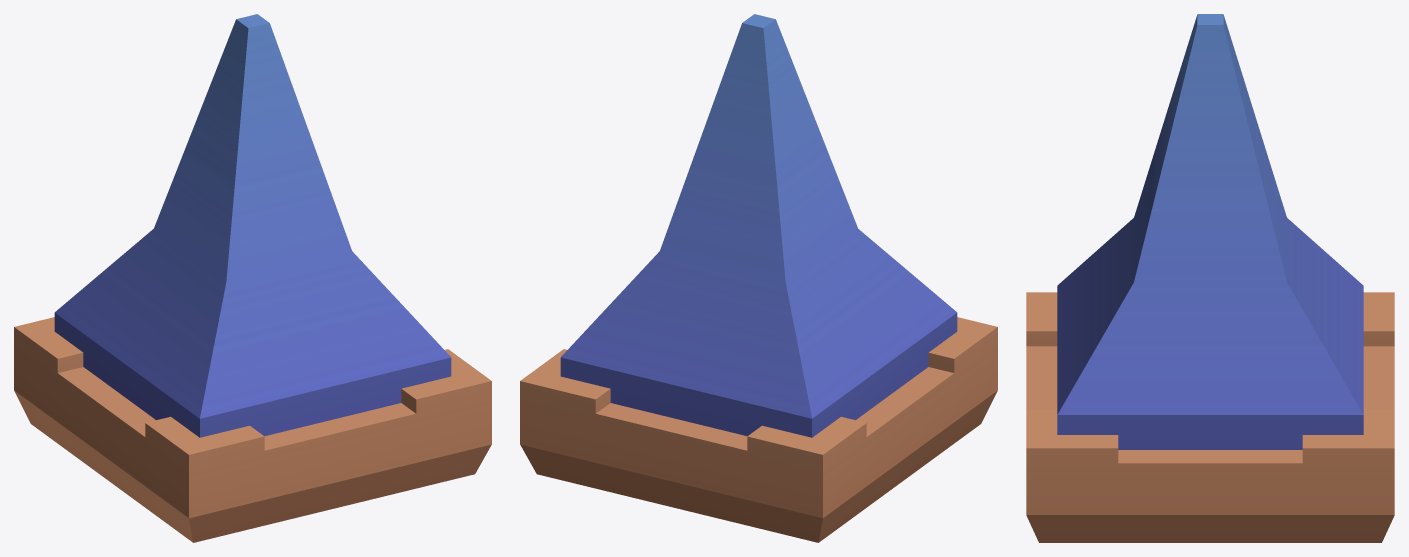
File: tower-square-top-roof-high.obj
The picture shows the model from 3 angles, left to right: view 1: azimuth 30°, elevation 25°; view 2: azimuth 150°, elevation 25°; view 3: azimuth 270°, elevation 25°; orthographic projection. The views are drawn at different scales.
Visible parts, largest first — view 1: tower-square-top-roof-high; view 2: tower-square-top-roof-high; view 3: tower-square-top-roof-high.
Part boxes in pixels (x1,y1,x2,y2): tower-square-top-roof-high: [14, 14, 491, 542]; tower-square-top-roof-high: [520, 14, 997, 542]; tower-square-top-roof-high: [1026, 14, 1394, 542].
Size of the model in its own units: 1 by 1.35 by 1.
Materials: 1 (1 with a texture image).
